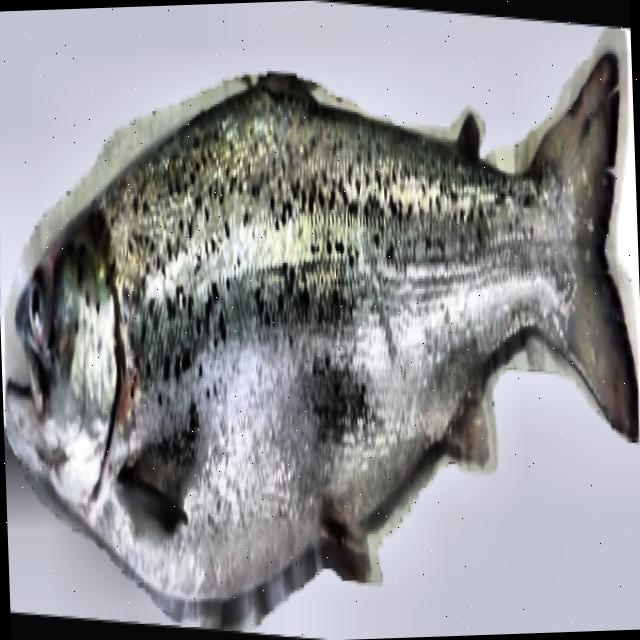mild_red: (95, 84, 584, 599)
